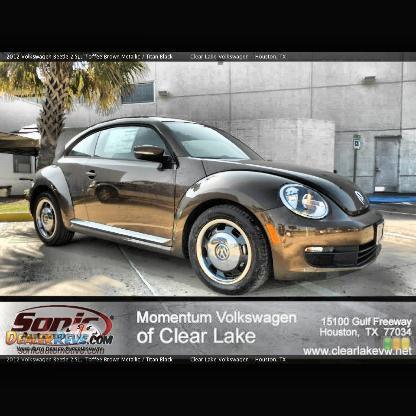Volkswagen Beetle Hatchback 2012: (25, 117, 388, 298)
